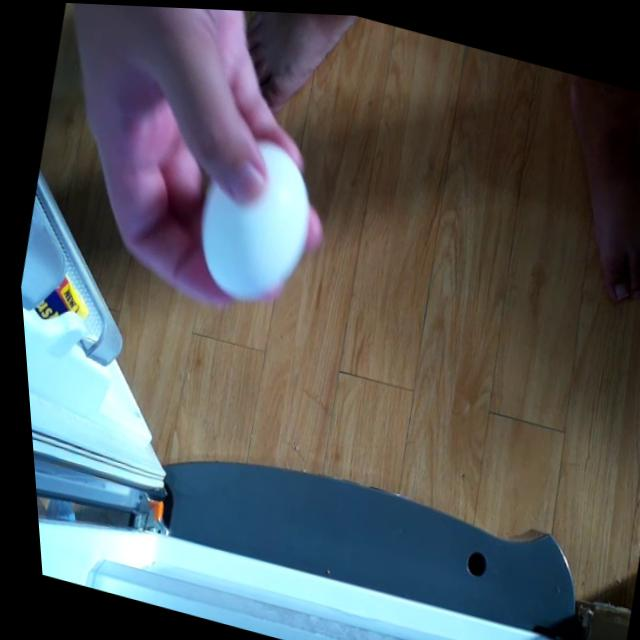egg: (169, 110, 326, 310)
